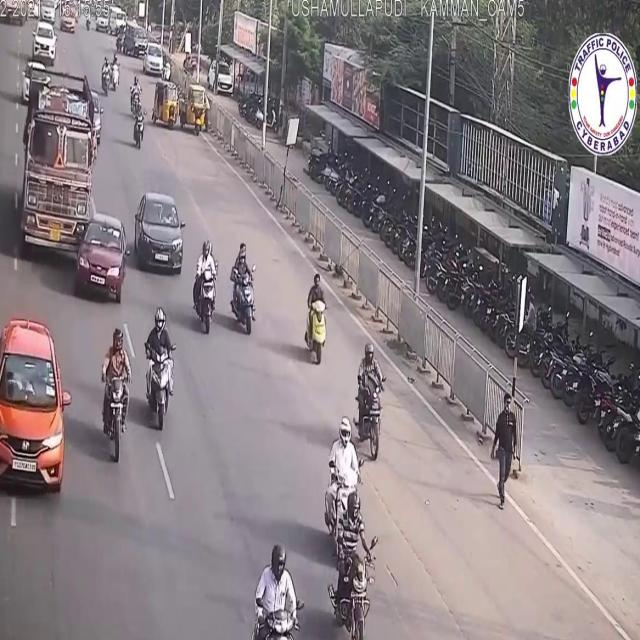accident: (17, 54, 127, 308)
non_accident: (123, 18, 167, 82), (127, 76, 147, 156)
